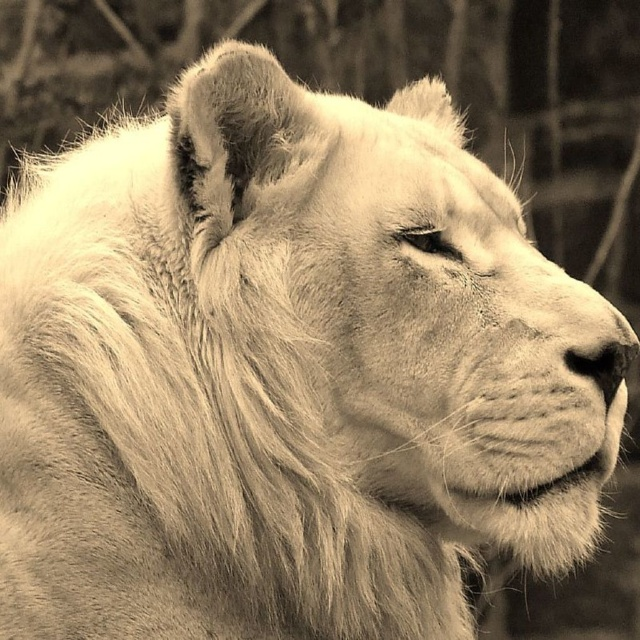Lion: (0, 35, 638, 638)
